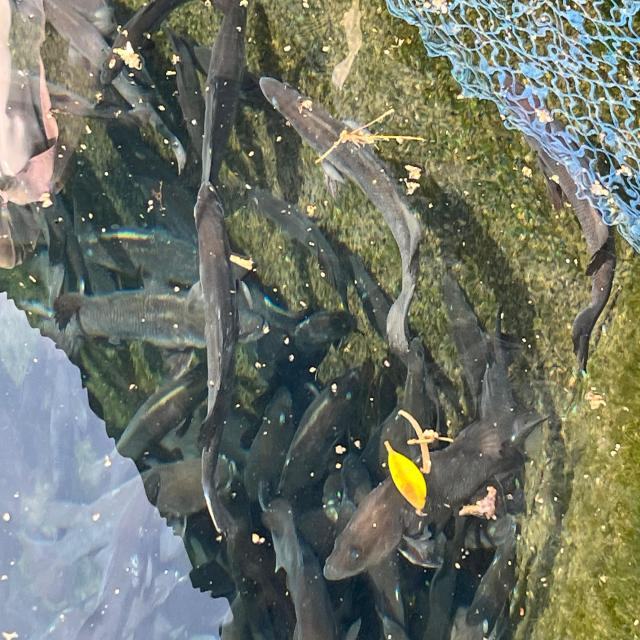ikan: (260, 63, 444, 289), (320, 455, 489, 562), (174, 168, 250, 402), (199, 10, 253, 150)
